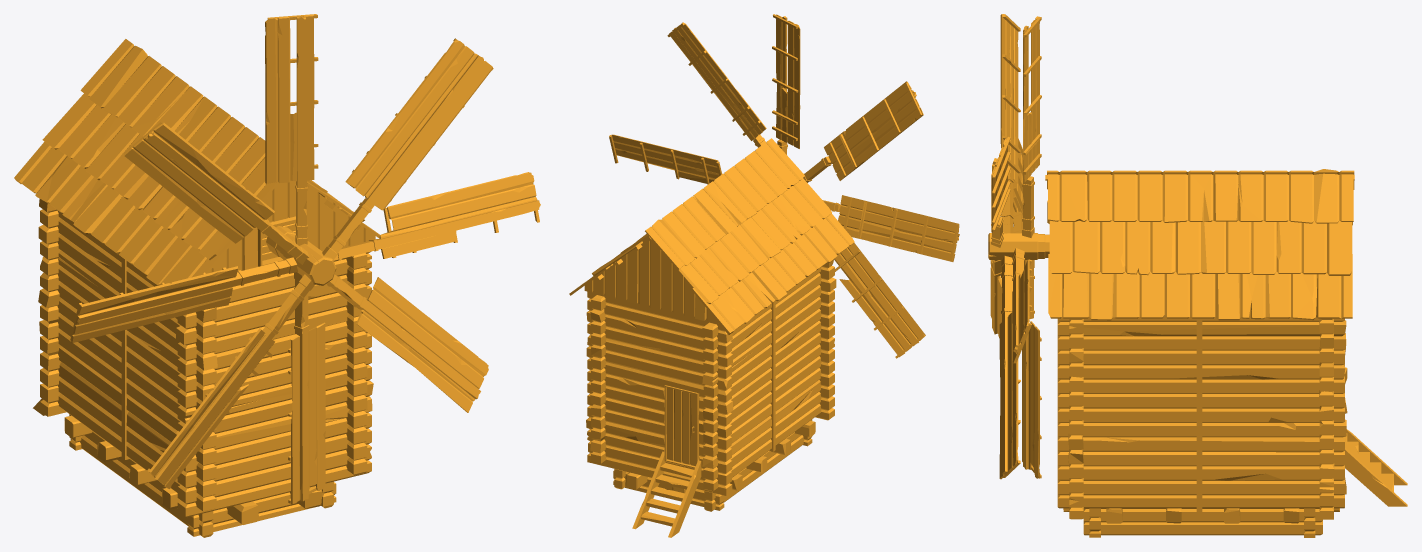
The model's file is SM_Mill_Old.fbx.
3 views of the same model, side by side, from view 1: azimuth 30°, elevation 25°; view 2: azimuth 150°, elevation 25°; view 3: azimuth 270°, elevation 25° (orthographic). The views are drawn at different scales.
Visible parts, largest first — view 1: mill-old-base, mill-old-sail; view 2: mill-old-base, mill-old-sail; view 3: mill-old-base, mill-old-sail.
Boxes of the visible parts, x1,y1,x2,y2 form: mill-old-base: (14, 39, 379, 537); mill-old-sail: (70, 14, 540, 504); mill-old-base: (569, 138, 854, 537); mill-old-sail: (609, 14, 959, 358); mill-old-base: (1045, 169, 1407, 537); mill-old-sail: (988, 14, 1049, 479).
Bounding box in the file's own units: 10.63 × 11.67 × 9.18.
